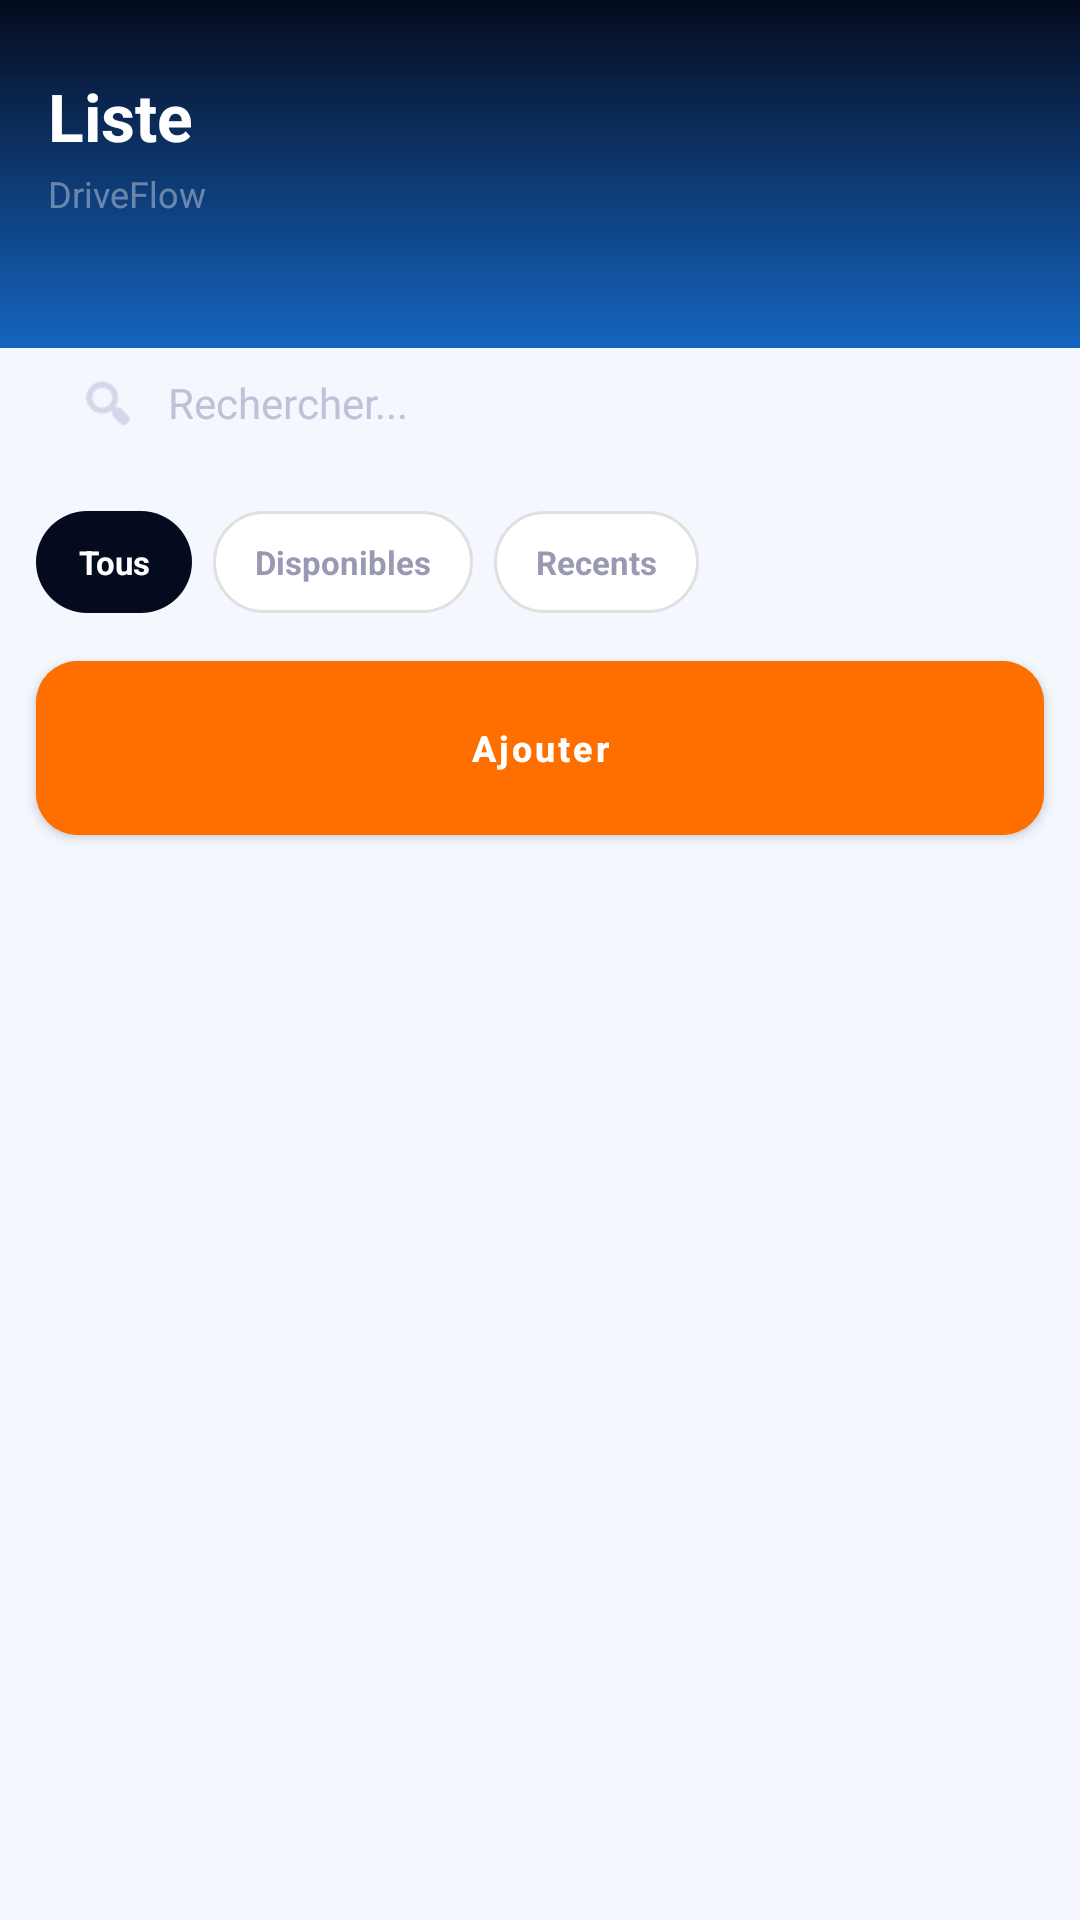

Named icons in this screenshot (1080px×1920px) and their centers, [x,y]:
search: [108,403]
